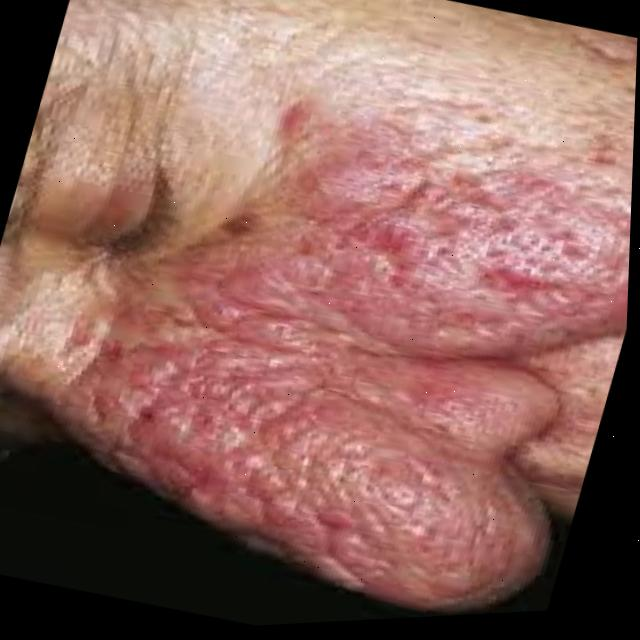Rosacea: (65, 73, 628, 635)
